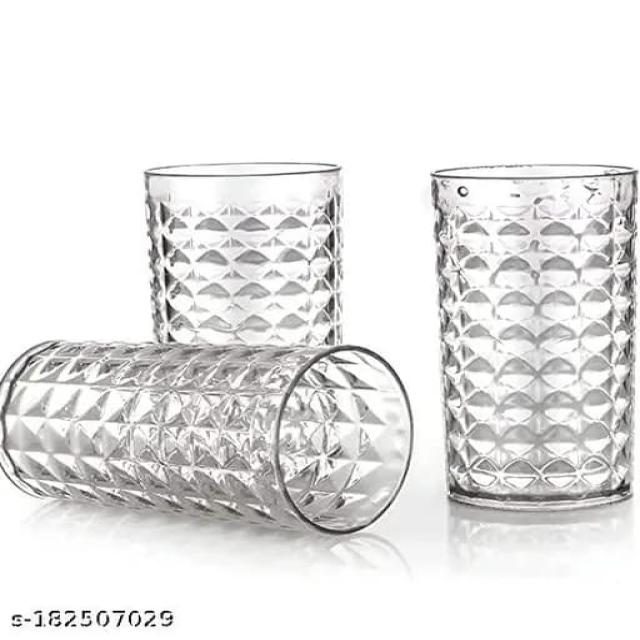glass: (401, 120, 640, 549), (7, 314, 412, 550), (124, 128, 346, 349)
